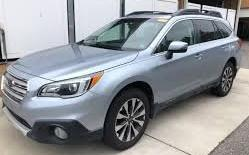SUV: (3, 14, 240, 150)
